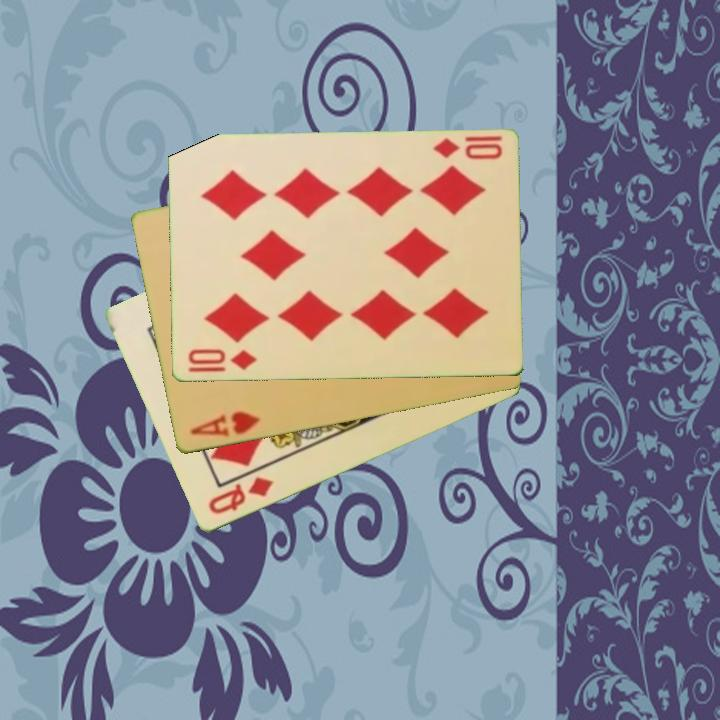10d: (429, 133, 505, 163), (184, 346, 259, 375)
Ah: (186, 408, 263, 440)
Qd: (204, 473, 276, 518)
